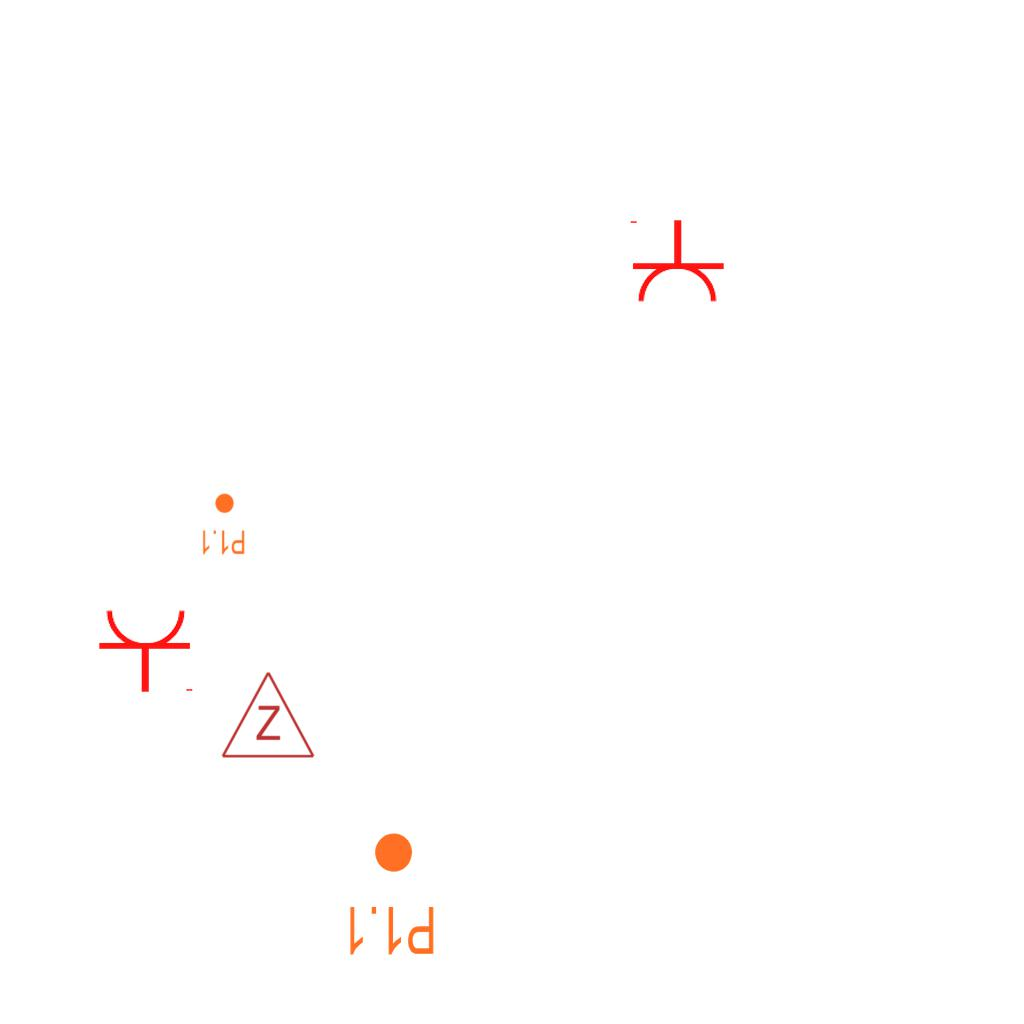Downlight_LED_Einbauleuchten_Flur: (344, 830, 437, 958), (200, 492, 246, 556)
Schukosteckdose_einfach: (626, 218, 726, 305), (97, 607, 197, 694)
Zimmersignalleuchte: (218, 665, 316, 765)
